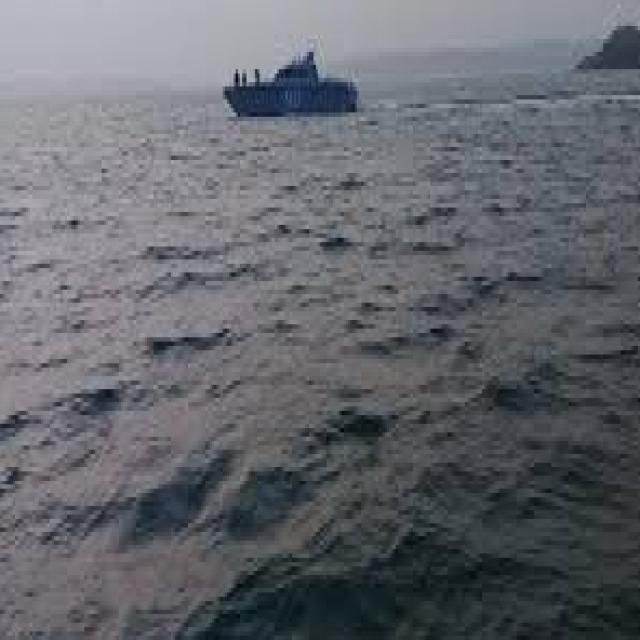houseboat: (225, 33, 362, 116)
